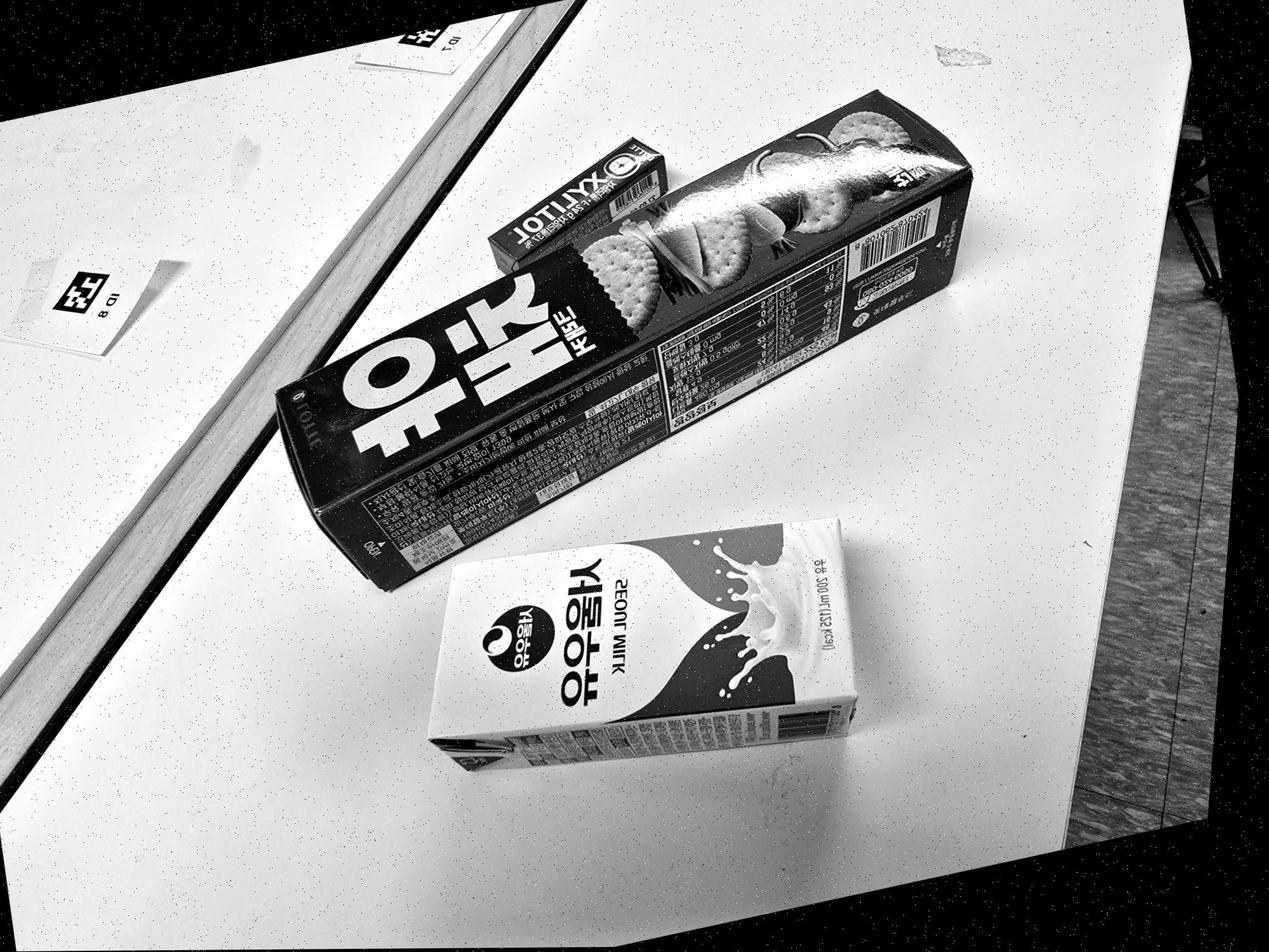cracker_vege: (277, 89, 974, 594)
gum_green: (489, 138, 668, 273)
milk_green: (429, 518, 857, 770)
